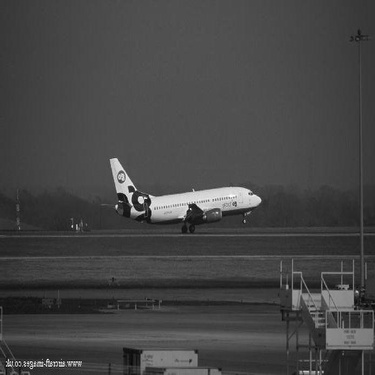airplane: (101, 139, 272, 239)
